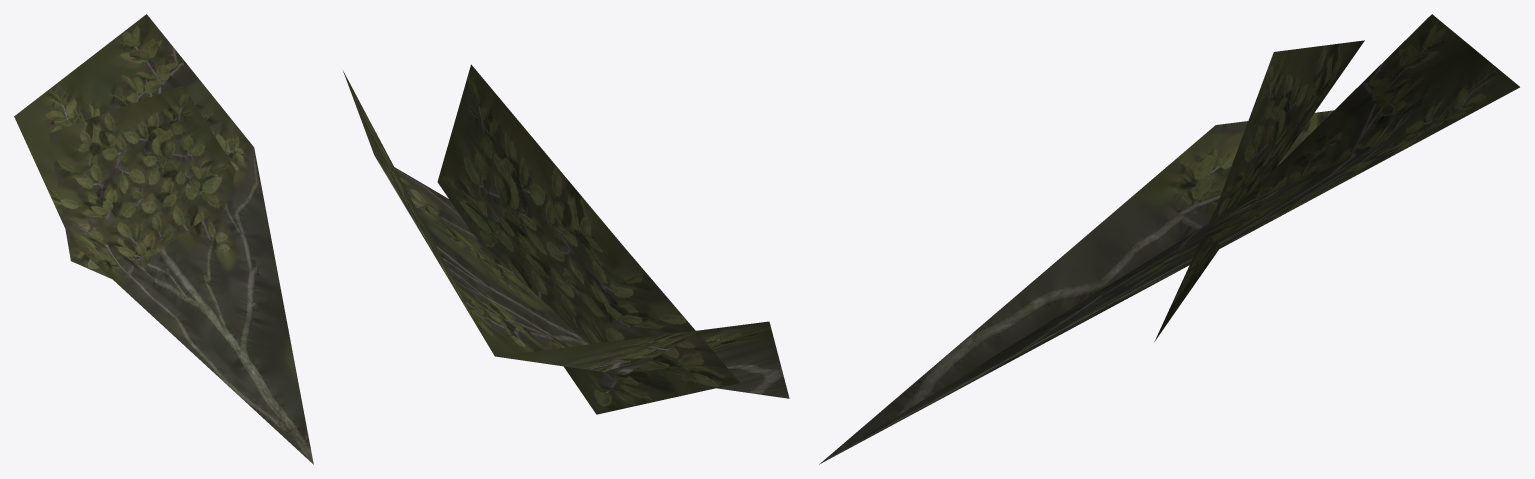
Rendered from TI_Tree_Middle_Branch_02.fbx.
3 views of the same model, side by side, from view 1: azimuth 30°, elevation 25°; view 2: azimuth 150°, elevation 25°; view 3: azimuth 270°, elevation 25° (orthographic). The views are drawn at different scales.
Parts seen in each view (by area): view 1: TI_Tree_Middle_Branch_02; view 2: TI_Tree_Middle_Branch_02; view 3: TI_Tree_Middle_Branch_02.
Boxes of the visible parts, x1=… form: TI_Tree_Middle_Branch_02: x1=14, y1=14, x2=313, y2=464; TI_Tree_Middle_Branch_02: x1=343, y1=64, x2=789, y2=414; TI_Tree_Middle_Branch_02: x1=819, y1=14, x2=1519, y2=464.
Size of the model in its own units: 0.8369 by 1.26 by 1.7.
